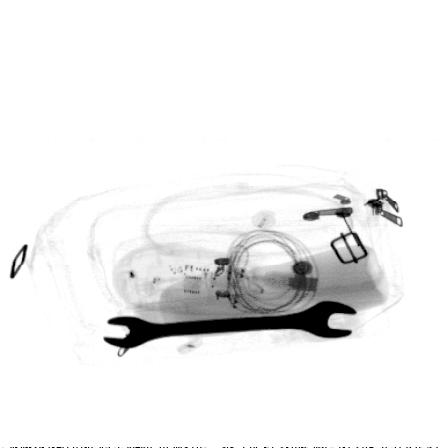Wrench: (100, 298, 359, 352)
